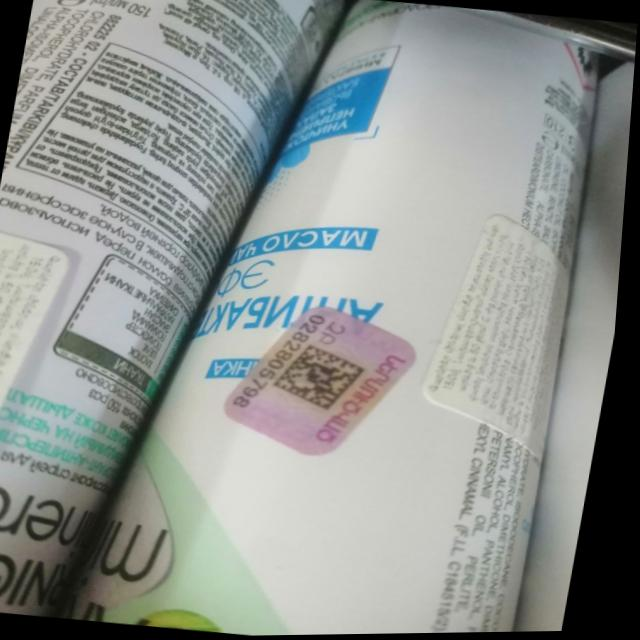datamatrix: (273, 341, 378, 419)
